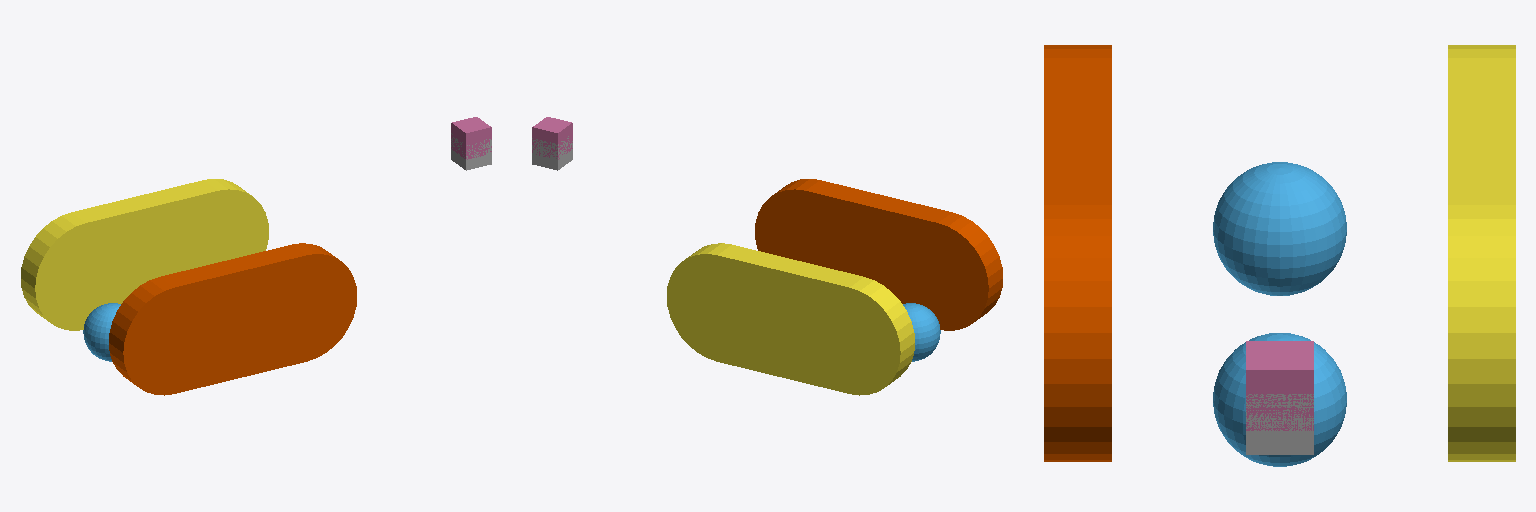
robot.urdf — diffbot_amr:
<?xml version="1.0" ?>
<!-- =================================================================================== -->
<!-- |    This document was autogenerated by xacro from diffbot.urdf.xacro             | -->
<!-- |    EDITING THIS FILE BY HAND IS NOT RECOMMENDED                                 | -->
<!-- =================================================================================== -->
<robot name="diffbot_amr">
  <!-- diff_drive controller -->
  <gazebo>
    <plugin filename="libgazebo_ros_diff_drive.so" name="diff_drive">
      <ros>
        <namespace>/diffbot_amr</namespace>
      </ros>
      <!-- wheels -->
      <left_joint>front_left_wheel_joint</left_joint>
      <right_joint>front_right_wheel_joint</right_joint>
      <!-- kinematics -->
      <wheel_separation>0.4</wheel_separation>
      <wheel_diameter>0.2</wheel_diameter>
      <!-- limits -->
      <max_wheel_torque>20</max_wheel_torque>
      <max_wheel_acceleration>1.0</max_wheel_acceleration>
      <!-- output -->
      <publish_odom>true</publish_odom>
      <publish_odom_tf>true</publish_odom_tf>
      <publish_wheel_tf>true</publish_wheel_tf>
      <odometry_frame>odom</odometry_frame>
      <robot_base_frame>robot_footprint</robot_base_frame>
    </plugin>
  </gazebo>
  <!-- camera -->
  <gazebo reference="camera">
    <sensor name="camera_sensor" type="camera">
      <update_rate>30.0</update_rate>
      <always_on>1</always_on>
      <camera name="camera">
        <horizontal_fov>1.3962634</horizontal_fov>
        <image>
          <width>800</width>
          <height>800</height>
          <format>R8G8B8</format>
        </image>
        <clip>
          <near>0.02</near>
          <far>300</far>
        </clip>
        <distortion>
          <k1>0.0</k1>
          <k2>0.0</k2>
          <k3>0.0</k3>
          <p1>0.0</p1>
          <p2>0.0</p2>
          <center>0.5 0.5</center>
        </distortion>
      </camera>
      <plugin filename="libgazebo_ros_camera.so" name="camera_controller">
        <ros>
          <namespace>/diffbot_amr</namespace>
          <argument>camera/image_raw:=/diffbot_amr/camera/image</argument>
          <argument>camera/camera_info:=/diffbot_amr/camera/image/camera_info</argument>
        </ros>
        <camera_name>camera_sensor</camera_name>
        <frame_name>robot_footprint</frame_name>
        <hack_baseline>0.07</hack_baseline>
      </plugin>
    </sensor>
  </gazebo>
  <!-- hokuyo -->
  <gazebo reference="hokuyo">
    <sensor name="head_hokuyo_sensor" type="ray">
      <pose>0 0 0 0 0 0</pose>
      <visualize>false</visualize>
      <update_rate>40</update_rate>
      <ray>
        <scan>
          <horizontal>
            <samples>720</samples>
            <resolution>1</resolution>
            <min_angle>-1.570796</min_angle>
            <max_angle>1.570796</max_angle>
          </horizontal>
        </scan>
        <range>
          <min>0.10</min>
          <max>30.0</max>
          <resolution>0.01</resolution>
        </range>
        <noise>
          <type>gaussian</type>
          <!-- Noise parameters based on published spec for Hokuyo laser
                achieving "+-30mm" accuracy at range < 10m.  A mean of 0.0m and
                stddev of 0.01m will put 99.7% of samples within 0.03m of the true
                reading. -->
          <mean>0.0</mean>
          <stddev>0.01</stddev>
        </noise>
      </ray>
      <update_rate>30</update_rate>
      <plugin filename="libgazebo_ros_ray_sensor.so" name="gazebo_ros_head_hokuyo_controller">
        <ros>
          <namespace>/diffbot_amr</namespace>
          <argument>~/out:=scan</argument>
        </ros>
        <output_type>sensor_msgs/LaserScan</output_type>
      </plugin>
    </sensor>
  </gazebo>
  <link name="robot_footprint"/>
  <joint name="robot_footprint_joint" type="fixed">
    <origin rpy="0 0 0" xyz="0 0 0"/>
    <parent link="robot_footprint"/>
    <child link="chassis"/>
  </joint>
  <link name="chassis">
    <pose>0 0 0.1 0 0 0</pose>
    <inertial>
      <mass value="15.0"/>
      <origin rpy=" 0 0 0" xyz="0.0 0 0"/>
      <inertia ixx="0.1" ixy="0" ixz="0" iyy="0.1" iyz="0" izz="0.1"/>
    </inertial>
    <collision name="collision">
      <origin rpy=" 0 0 0" xyz="0 0 0"/>
      <geometry>
        <box size=".4 .2 .1"/>
      </geometry>
    </collision>
    <visual name="chassis_visual">
      <origin rpy=" 0 0 -1.570796" xyz="0 0 0.12"/>
      <geometry>
        <!-- <box size=".4 .2 .1"/> -->
        <!-- <mesh filename="$(find gcamp_gazebo)/meshes/base_link.STL" /> -->
        <mesh filename="[local-path]/camel-amr-projects-UI/src/amr-gazebo-pkg/meshes/base_link.STL"/>
      </geometry>
    </visual>
    <!-- <visual name="chassis_middle_visual">
      <origin rpy=" 0 0 0" xyz="0 0 0.1"/>
      <geometry>
        <box size="1.1 .2 .1"/>
      </geometry>
    </visual> -->
    <collision name="chassis_middle_collision">
      <origin rpy=" 0 0 0" xyz="0 0 0.1"/>
      <geometry>
        <box size="1.1 0.2 0.1"/>
      </geometry>
    </collision>    
    <collision name="chassis_top_collision">
      <origin rpy=" 0 0 0" xyz="0 0 0.3"/>
      <geometry>
        <box size="1.1 .85 0.2"/>
      </geometry>
    </collision>    
    <!-- <visual name="chassis_top_visual">
      <origin rpy=" 0 0 0" xyz="0 0 0.25"/>
      <geometry>
        <box size="1.1 .85 0.2"/>
      </geometry>
    </visual> -->
    <!-- <visual name="chassis_left_visual">
      <origin rpy=" 0 0 0" xyz="0 0.325 0.1"/>
      <geometry>
        <box size="1.1 .2 .1"/>
      </geometry>
    </visual> -->
    <!-- <visual name="chassis_right_visual">
      <origin rpy=" 0 0 0" xyz="0 -0.325 0.1"/>
      <geometry>
        <box size="1.1 .2 .1"/>
      </geometry>
    </visual> -->
    <collision name="chassis_left_collision">
      <origin rpy=" 0 0 0" xyz="0 0.325 0.1"/>
      <geometry>
        <box size="1.1 .2 .1"/>
      </geometry>
    </collision>    
    <collision name="chassis_right_collision">
      <origin rpy=" 0 0 0" xyz="0 -0.325 0.1"/>
      <geometry>
        <box size="1.1 .2 .1"/>
      </geometry>
    </collision>        
    <collision name="back_caster_collision">
      <origin rpy=" 0 0 0" xyz="-0.15 0 -0.05"/>
      <geometry>
        <sphere radius="0.0499"/>
      </geometry>
    </collision>
    <visual name="back_caster_visual">
      <origin rpy=" 0 0 0" xyz="-0.15 0 -0.05"/>
      <geometry>
        <sphere radius="0.05"/>
      </geometry>
    </visual>
    <collision name="front_caster_collision">
      <origin rpy=" 0 0 0" xyz="0.15 0 -0.05"/>
      <geometry>
        <sphere radius="0.0499"/>
      </geometry>
    </collision>
    <visual name="front_caster_visual">
      <origin rpy=" 0 0 0" xyz="0.15 0 -0.05"/>
      <geometry>
        <sphere radius="0.05"/>
      </geometry>
    </visual>
  </link>
  <link name="front_left_wheel">
    <inertial>
      <mass value="8.0"/>
      <origin rpy=" 0 1.5707 1.5707" xyz="0.0 0 0"/>
      <inertia ixx="0.1" ixy="0" ixz="0" iyy="0.1" iyz="0" izz="0.1"/>
    </inertial>
    <collision>
      <origin rpy=" 0 1.5707 1.5707" xyz="0.0 0 0"/>
      <geometry>
        <cylinder length="0.05" radius="0.1"/>
      </geometry>
    </collision>
  </link>
  <link name="left_track">
    <visual name="left_track_visual">
      <origin rpy="1.5708 0 1.5708" xyz="0 0 0"/>
      <geometry>
        <box size="0.05 0.2 0.26"/>
      </geometry>
    </visual>
    <visual name="left_track_visual_1">
      <origin rpy="1.5708 -0 0" xyz="0.13 0 0"/>
      <geometry>
        <cylinder length="0.05" radius="0.1"/>
      </geometry>
    </visual>
    <visual name="left_track_visual_2">
      <origin rpy="1.5708 -0 0" xyz="-0.13 0 0"/>
      <geometry>
        <cylinder length="0.05" radius="0.1"/>
      </geometry>
    </visual>
  </link>
  <link name="front_right_wheel">
    <inertial>
      <mass value="8.0"/>
      <origin rpy=" 0 1.5707 1.5707" xyz="0.0 0 0"/>
      <inertia ixx="0.1" ixy="0" ixz="0" iyy="0.1" iyz="0" izz="0.1"/>
    </inertial>
    <collision>
      <origin rpy=" 0 1.5707 1.5707" xyz="0.0 0 0"/>
      <geometry>
        <cylinder length="0.05" radius="0.1"/>
      </geometry>
    </collision>
  </link>
  <!-- <link name="back_right_wheel"> -->
  <!-- Dummy -->
  <!-- </link> -->
  <link name="right_track">
    <visual name="right_track_visual">
      <origin rpy="1.5708 0 1.5708" xyz="0 0 0"/>
      <geometry>
        <box size="0.05 0.2 0.26"/>
      </geometry>
    </visual>
    <visual name="right_track_visual_1">
      <origin rpy="1.5708 -0 0" xyz="0.13 0 0"/>
      <geometry>
        <cylinder length="0.05" radius="0.1"/>
      </geometry>
    </visual>
    <visual name="right_track_visual_2">
      <origin rpy="1.5708 -0 0" xyz="-0.13 0 0"/>
      <geometry>
        <cylinder length="0.05" radius="0.1"/>
      </geometry>
    </visual>
  </link>
  <link name="camera">
    <inertial>
      <mass value="0.1"/>
      <origin rpy=" 0 0 0" xyz="0.05 0.05 0.05"/>
      <inertia ixx="1e-6" ixy="0" ixz="0" iyy="1e-6" iyz="0" izz="1e-6"/>
    </inertial>
    <visual name="camera_visual">
      <origin rpy="0 0 0" xyz="0 0 0.2"/>
      <geometry>
        <box size="0.05 0.05 0.05"/>
      </geometry>
    </visual>
    <collision name="camera_colision">
      <origin rpy="0 0 0" xyz="0 0 0"/>
      <geometry>
        <box size="0.05 0.05 0.05"/>
      </geometry>
    </collision>
  </link>
  <link name="hokuyo">
    <inertial>
      <mass value="1e-5"/>
      <origin rpy=" 0 0 0" xyz="0 0 0"/>
      <inertia ixx="1e-6" ixy="0" ixz="0" iyy="1e-6" iyz="0" izz="1e-6"/>
    </inertial>
    <visual name="hokuyo_visual">
      <origin rpy="0 0 0" xyz="0 0 0"/>
      <geometry>
        <box size="0.05 0.05 0.05"/>
      </geometry>
    </visual>
    <collision name="hokuyo_colision">
      <origin rpy="0 0 0" xyz="0 0 0"/>
      <geometry>
        <box size="0.05 0.05 0.05"/>
      </geometry>
    </collision>
  </link>
  <joint name="front_left_wheel_joint" type="continuous">
    <origin rpy="0 0 0" xyz="0.0 0.15 0"/>
    <child link="front_left_wheel"/>
    <parent link="chassis"/>
    <axis rpy="0 0 0" xyz="0 1 0"/>
    <limit effort="10000" velocity="1000"/>
    <dynamics damping="1.0" friction="1.0"/>
  </joint>
  <joint name="front_right_wheel_joint" type="continuous">
    <origin rpy="0 0 0" xyz="0.0 -0.15 0"/>
    <child link="front_right_wheel"/>
    <parent link="chassis"/>
    <axis rpy="0 0 0" xyz="0 1 0"/>
    <limit effort="10000" velocity="1000"/>
    <dynamics damping="1.0" friction="1.0"/>
  </joint>
  <joint name="right_track_j" type="fixed">
    <origin rpy="0 0 0" xyz="0 -0.15 0"/>
    <child link="right_track"/>
    <parent link="chassis"/>
  </joint>
  <joint name="left_track_j" type="fixed">
    <origin rpy="0 0 0" xyz="0 0.15 0"/>
    <child link="left_track"/>
    <parent link="chassis"/>
  </joint>
  <joint name="camera_joint" type="fixed">
    <!-- <origin rpy="0 0 0" xyz="0.2 0 0.25"/> -->
    <origin rpy="0 0 0" xyz="0.555 0 -0.05"/>
    <child link="camera"/>
    <parent link="chassis"/>
    <axis rpy="0 0 0" xyz="0 1 0"/>
  </joint>
  <joint name="hokuyo_joint" type="fixed">
    <origin rpy="0 0 0" xyz="0.555 0 0.13"/>
    <!-- <origin rpy="0 0 0" xyz="0.2 0 0.43"/> -->
    <child link="hokuyo"/>
    <parent link="chassis"/>
    <axis rpy="0 0 0" xyz="0 1 0"/>
  </joint>
  <gazebo reference="chassis">
    <material>Gazebo/White</material>
  </gazebo>
  <gazebo reference="left_track">
    <material>Gazebo/Black</material>
  </gazebo>
  <gazebo reference="right_track">
    <material>Gazebo/Black</material>
  </gazebo>
  <gazebo reference="camera">
    <material>Gazebo/Gray</material>
  </gazebo>
  <gazebo reference="hokuyo">
    <material>Gazebo/Black</material>
  </gazebo>
</robot>

--- Render facts (derived) ---
Views: 3 orthographic renders of the robot side by side, from view 1: azimuth 30°, elevation 25°; view 2: azimuth 150°, elevation 25°; view 3: azimuth 270°, elevation 25°.
Model diffbot_amr with 8 links and 7 joints (2 continuous, 5 fixed), rooted at robot_footprint, posed every joint at zero.
Visible links, largest first — view 1: right_track, left_track, chassis, camera, hokuyo; view 2: left_track, right_track, chassis, camera, hokuyo; view 3: left_track, right_track, chassis, camera, hokuyo.
Boxes of the visible links, x1=… form: right_track: x1=109, y1=243, x2=356, y2=395; left_track: x1=21, y1=179, x2=268, y2=330; chassis: x1=83, y1=303, x2=120, y2=361; camera: x1=451, y1=117, x2=491, y2=159; hokuyo: x1=451, y1=133, x2=491, y2=170; left_track: x1=667, y1=243, x2=914, y2=395; right_track: x1=755, y1=179, x2=1002, y2=330; chassis: x1=903, y1=303, x2=940, y2=361; camera: x1=532, y1=117, x2=572, y2=159; hokuyo: x1=532, y1=136, x2=572, y2=170; left_track: x1=1448, y1=45, x2=1515, y2=461; right_track: x1=1044, y1=45, x2=1111, y2=461; chassis: x1=1213, y1=162, x2=1346, y2=466; camera: x1=1246, y1=341, x2=1313, y2=430; hokuyo: x1=1246, y1=394, x2=1313, y2=454.
Bounding box of the posed robot: 0.81 × 0.35 × 0.275 m (x, y, z).
Geometry: only primitive shapes (box / cylinder / sphere) drawn; not drawn: 1 mesh visual (reference in a form the renderer does not follow).
